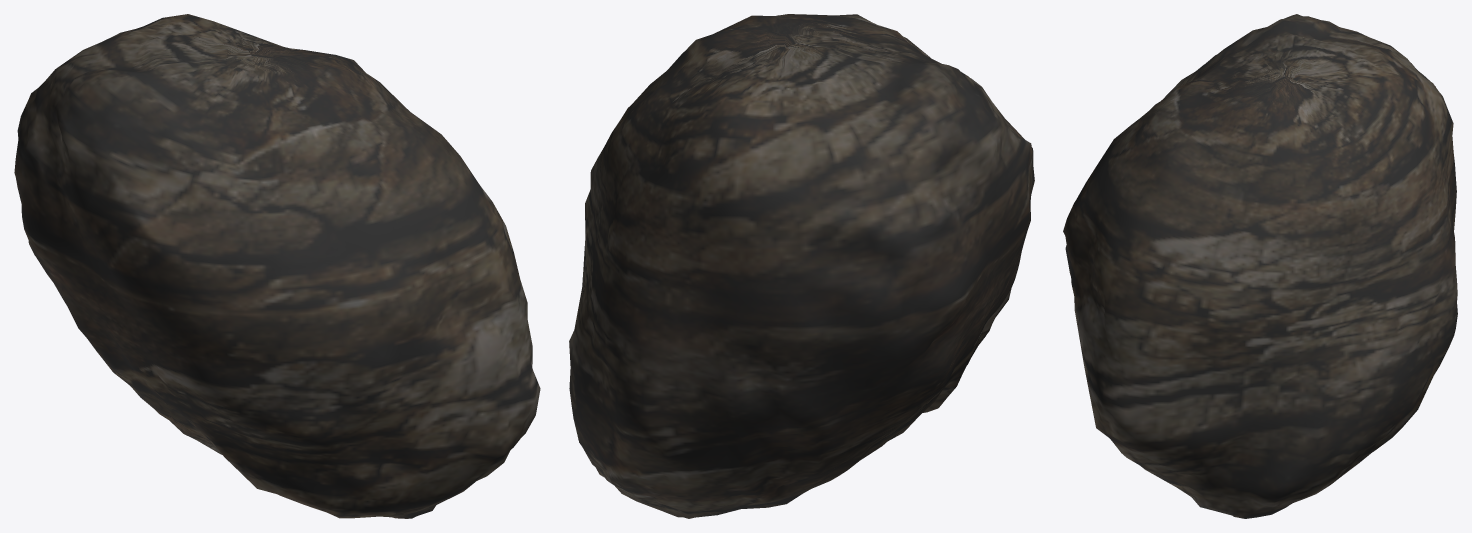
3 views of the same model, side by side, from view 1: azimuth 30°, elevation 25°; view 2: azimuth 150°, elevation 25°; view 3: azimuth 270°, elevation 25° (orthographic). The views are drawn at different scales.
Visible parts, largest first — view 1: AsteroidB4; view 2: AsteroidB4; view 3: AsteroidB4.
Boxes of the visible parts, x1,y1,x2,y2 form: AsteroidB4: (14, 14, 540, 518); AsteroidB4: (569, 14, 1034, 518); AsteroidB4: (1063, 14, 1457, 518).
Size of the model in its own units: 1.12 by 1.31 by 1.18.
Materials: 1 (1 with a texture image).
